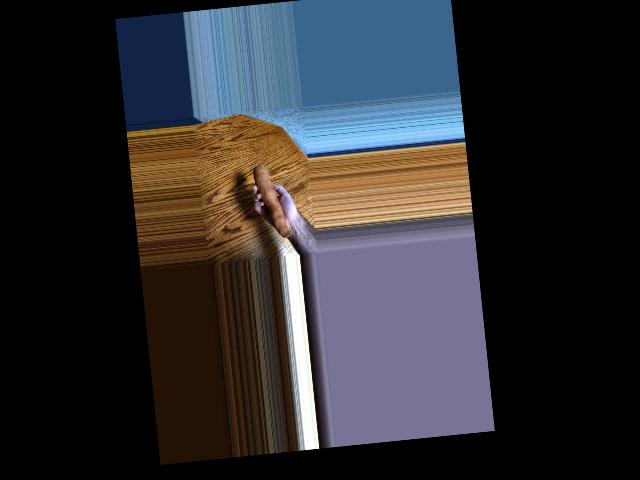sweet_potato: (251, 165, 286, 236)
